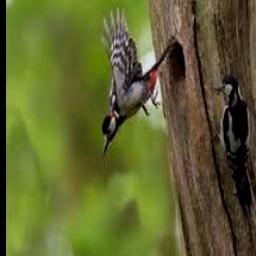Woodpecker: (101, 7, 170, 152), (212, 74, 251, 214)
